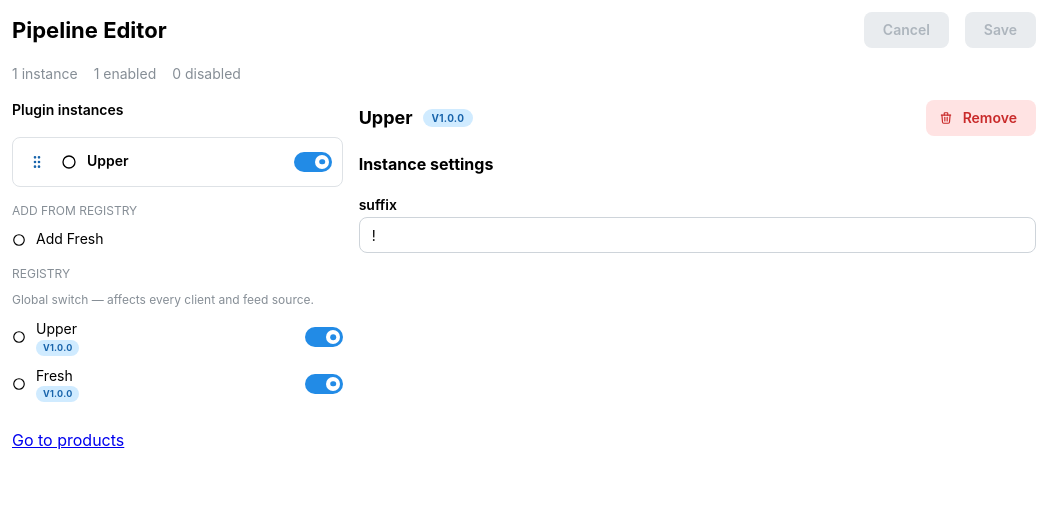
PipelinePage › add from registry marks the page dirty
Step 1. Click the button with test id "add-plugin-fresh" → (70, 239), box [12,229,343,250]
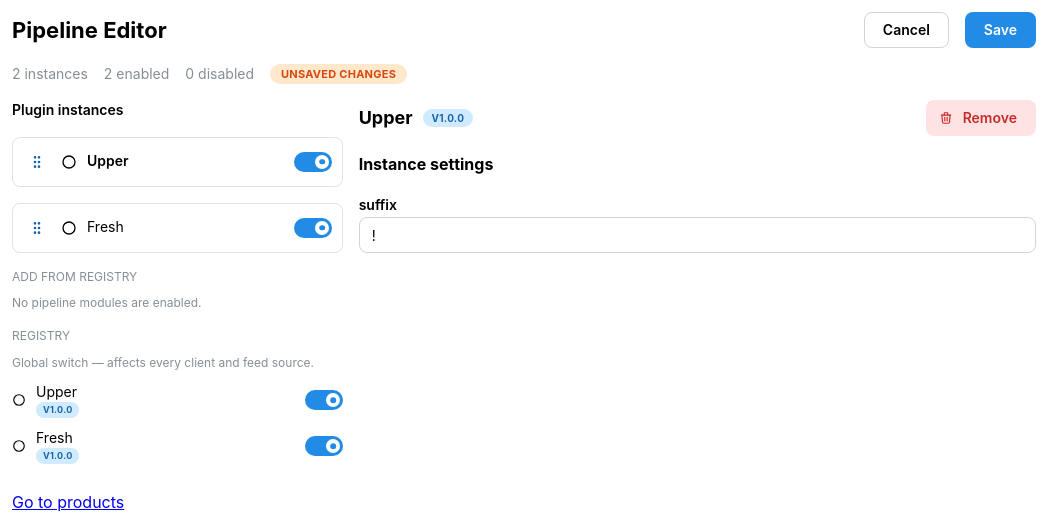
Expected: the button "Save" is enabled, [965,12,1036,48]
